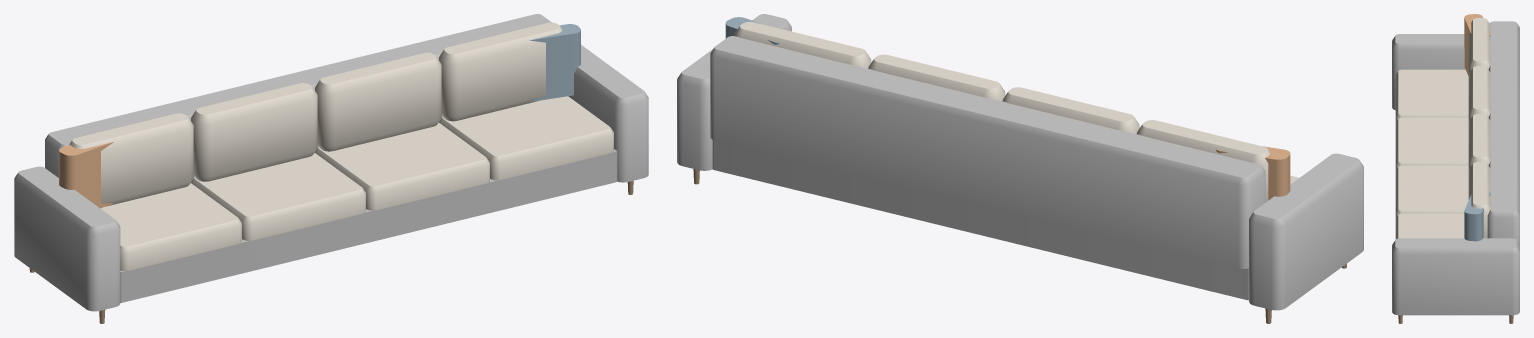
3 renders of one model, left to right at view 1: azimuth 30°, elevation 25°; view 2: azimuth 150°, elevation 25°; view 3: azimuth 270°, elevation 25°, orthographic. The views are drawn at different scales.
Visible parts, largest first — view 1: Sofa văng Chiều dài=3600; view 2: Sofa văng Chiều dài=3600; view 3: Sofa văng Chiều dài=3600.
Part boxes in pixels (<box>): Sofa văng Chiều dài=3600: <box>14,14,648,323</box>; Sofa văng Chiều dài=3600: <box>677,14,1363,323</box>; Sofa văng Chiều dài=3600: <box>1392,14,1519,323</box>.
Size of the model in its own units: 3.62 by 0.85 by 0.9001.
